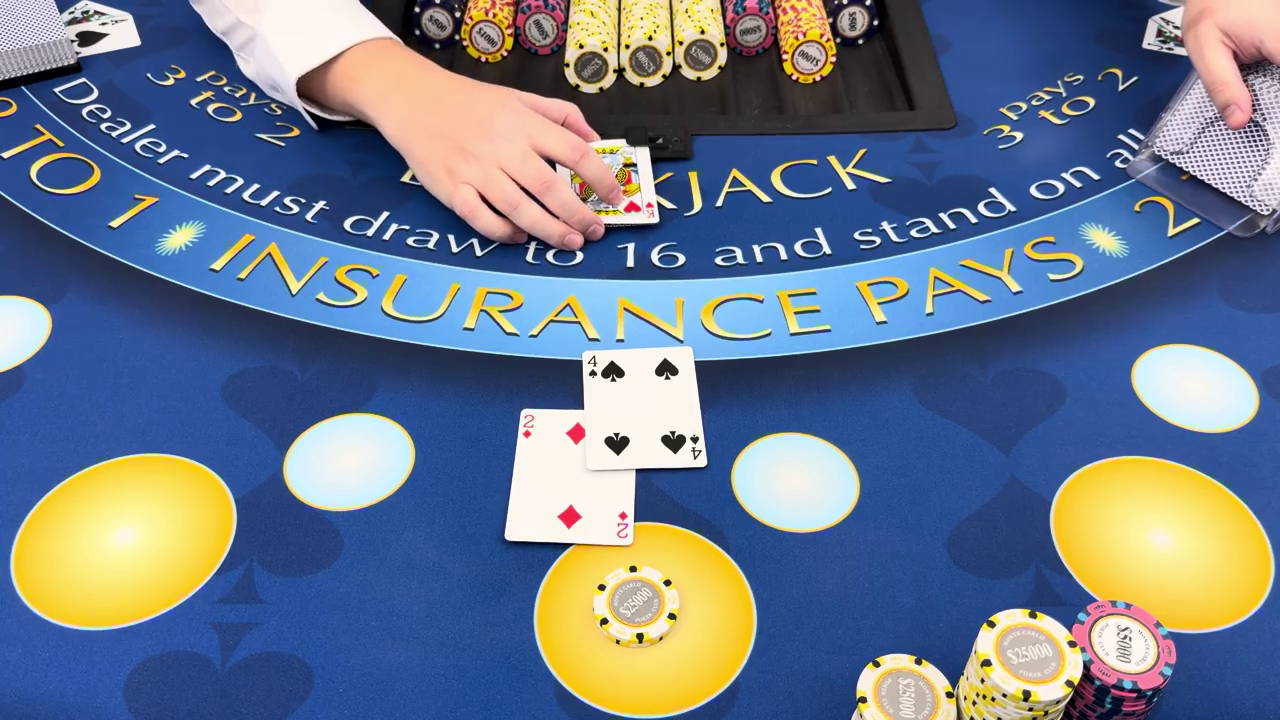2D: (614, 508, 632, 543), (520, 410, 537, 442)
4S: (581, 351, 604, 380), (687, 432, 704, 467)
KH: (641, 198, 659, 223)
